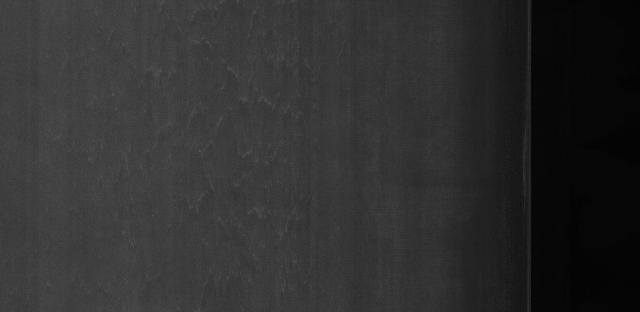silk_spot: (178, 143, 318, 265), (173, 43, 313, 127)
